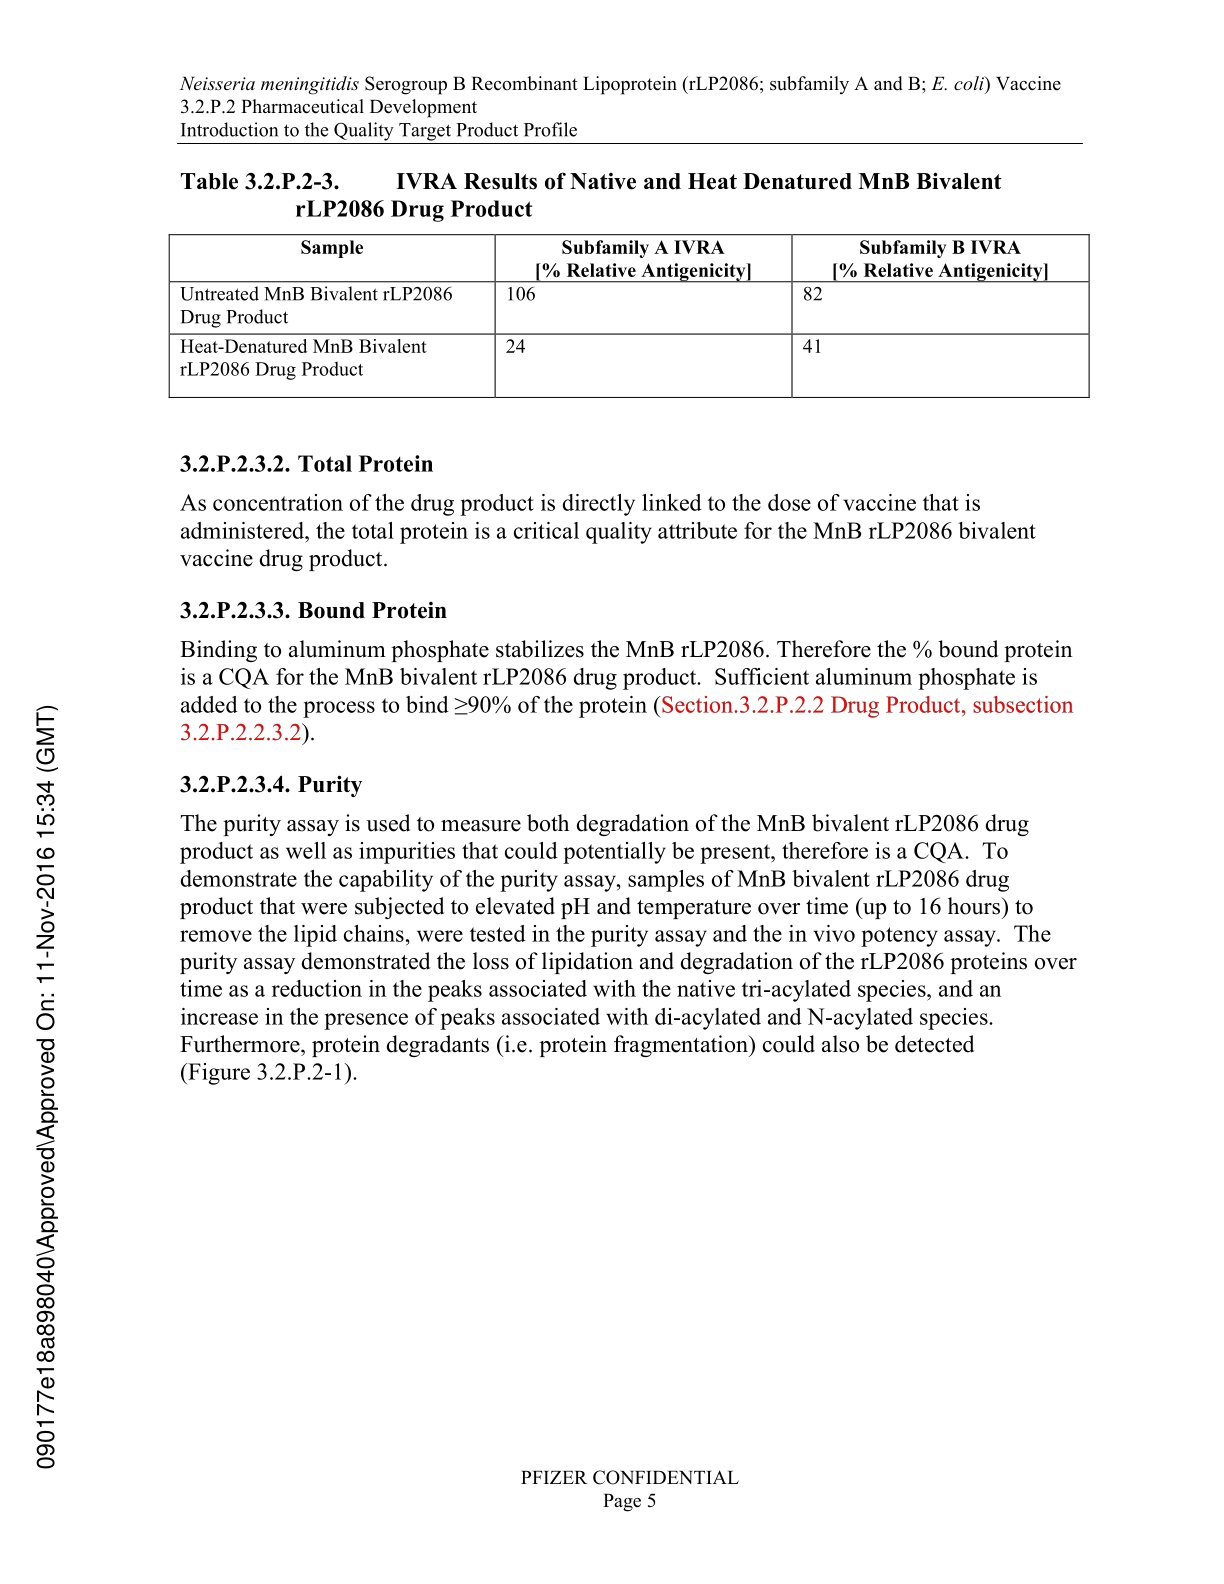full_lined: (168, 234, 1090, 399)
